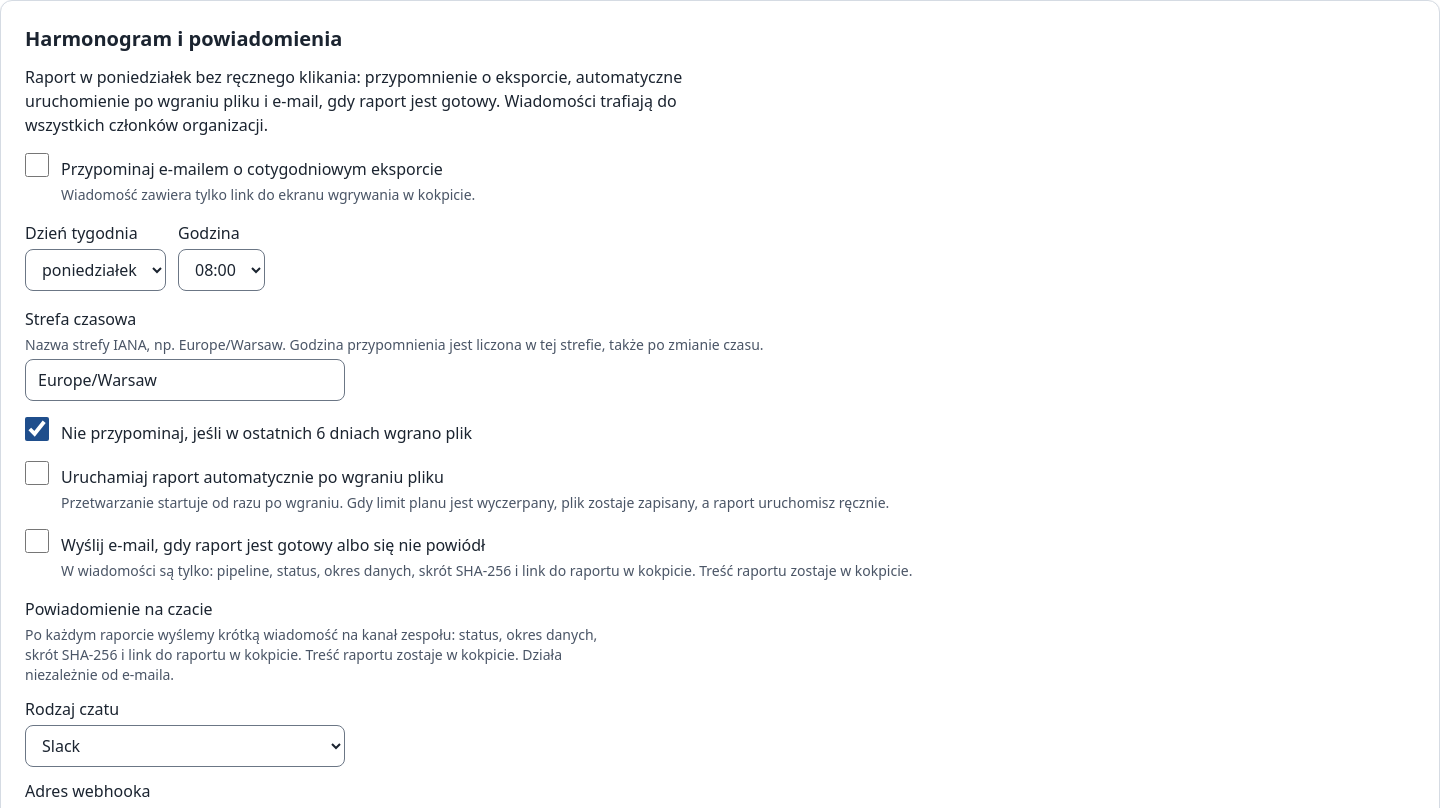
ScheduleSettingsCard › zapisuje pełny stan przez PUT, ogłasza sukces i pokazuje następne przypomnienie w strefie
Click the switch labelled "Przypominaj e-mailem o cotygodniowym eksporcie".
click(37, 165)  # box [25, 153, 49, 177]
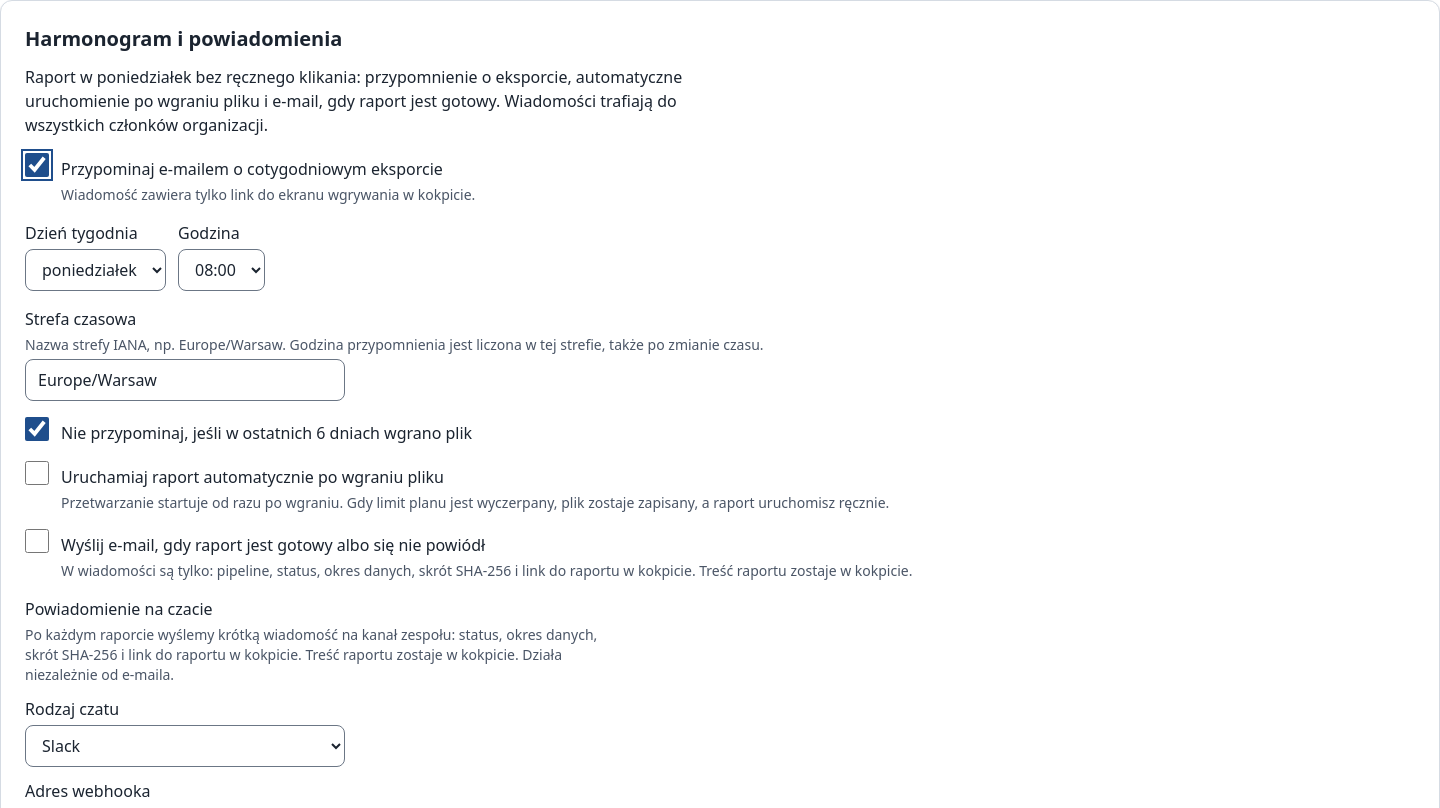
Select "wtorek" in the dropdown labelled "Dzień tygodnia" at (96, 270), box [25, 249, 166, 291]
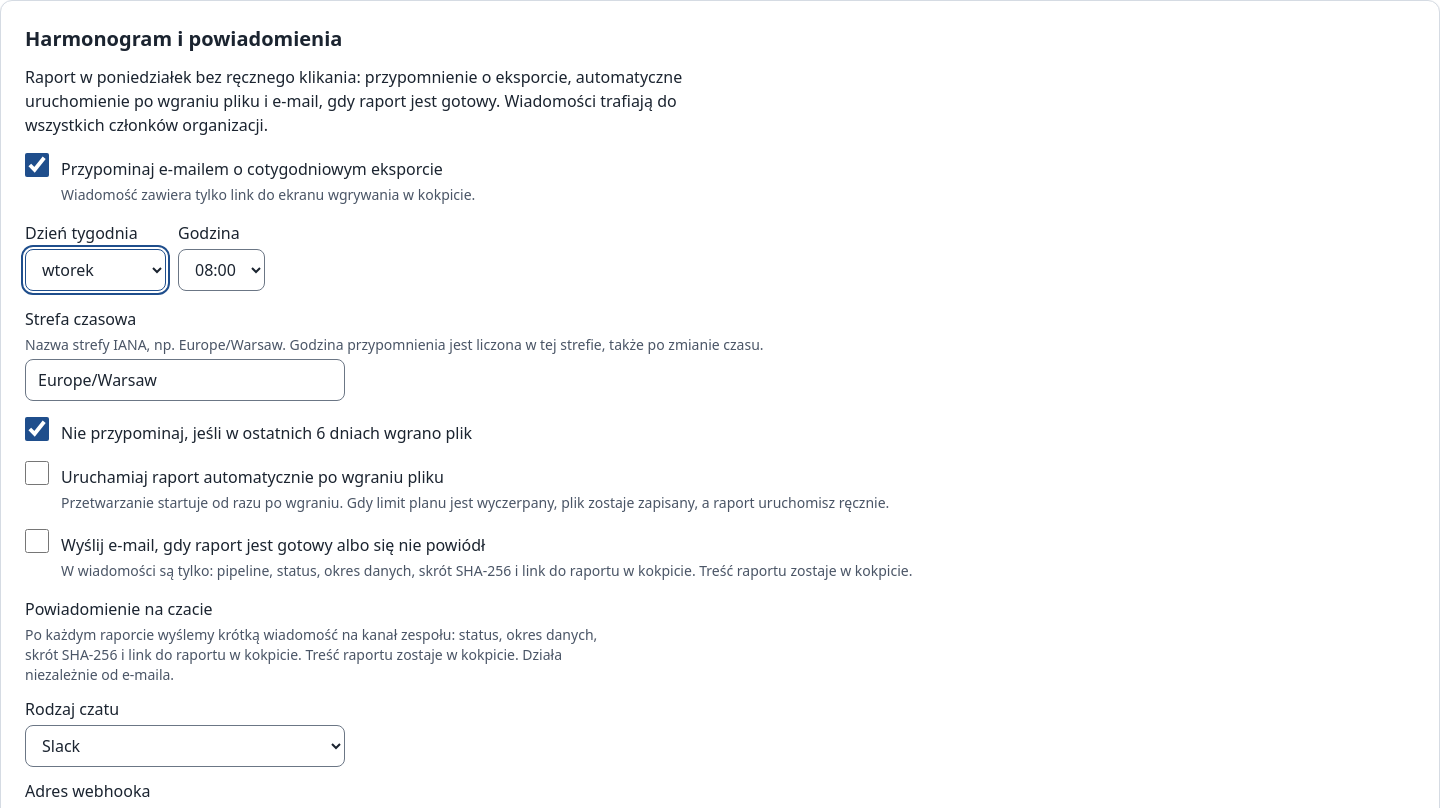
Select "09:00" in the dropdown labelled "Godzina" at (222, 270), box [178, 249, 265, 291]
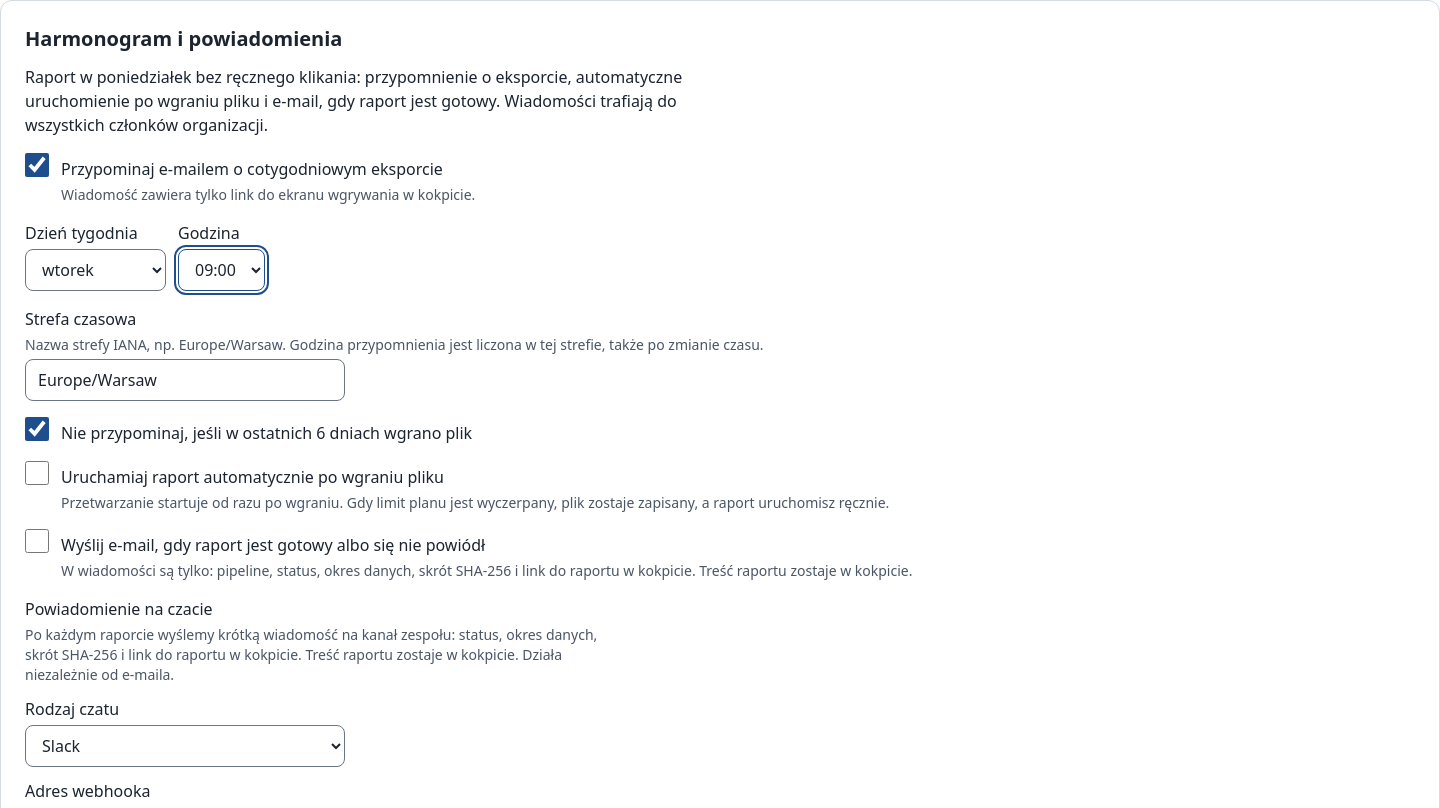
Click the switch labelled "Wyślij e-mail, gdy raport jest gotowy albo się nie powiódł".
click(37, 541)  # box [25, 529, 49, 553]
(page scrolled)
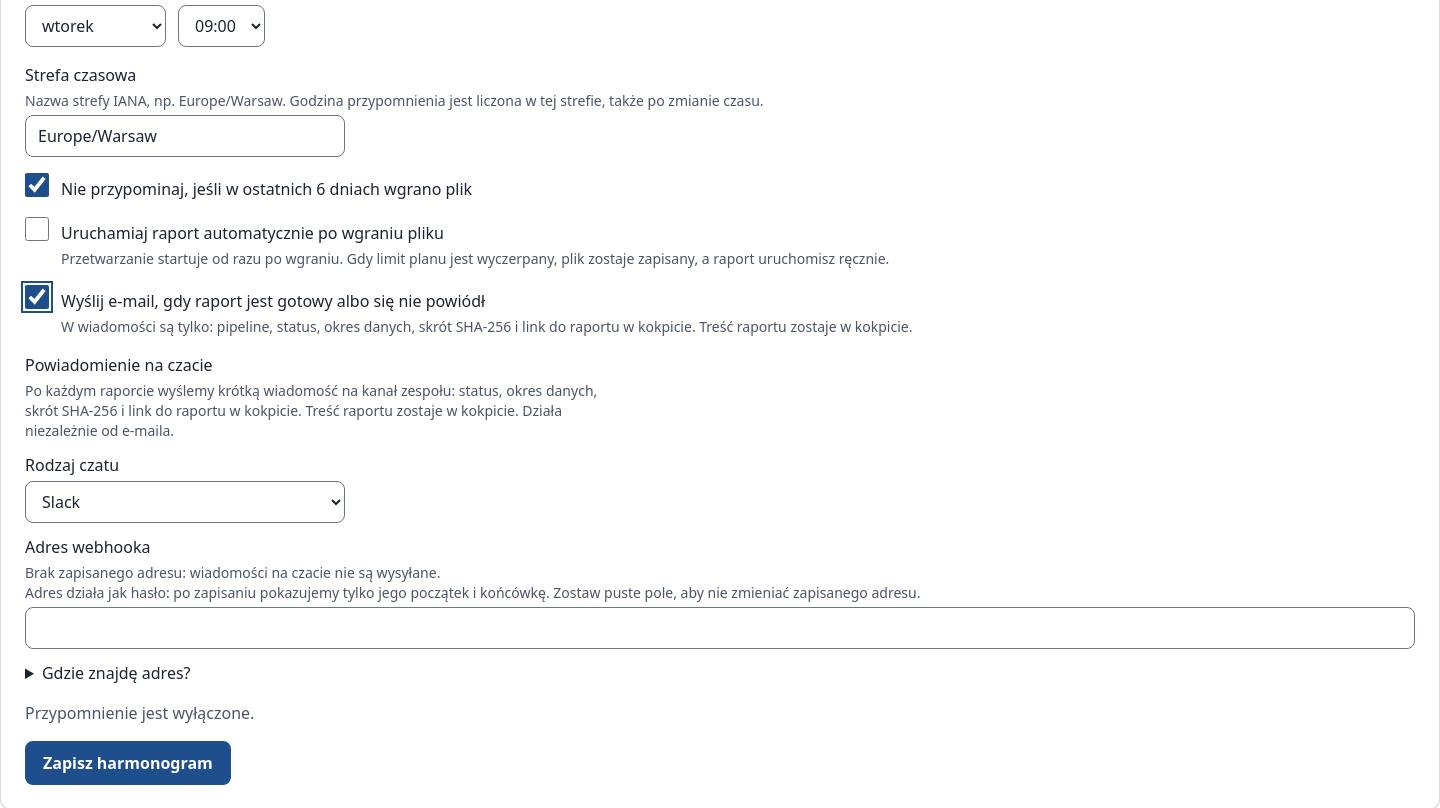
Click the button "Zapisz harmonogram".
click(128, 763)  # box [25, 741, 231, 785]
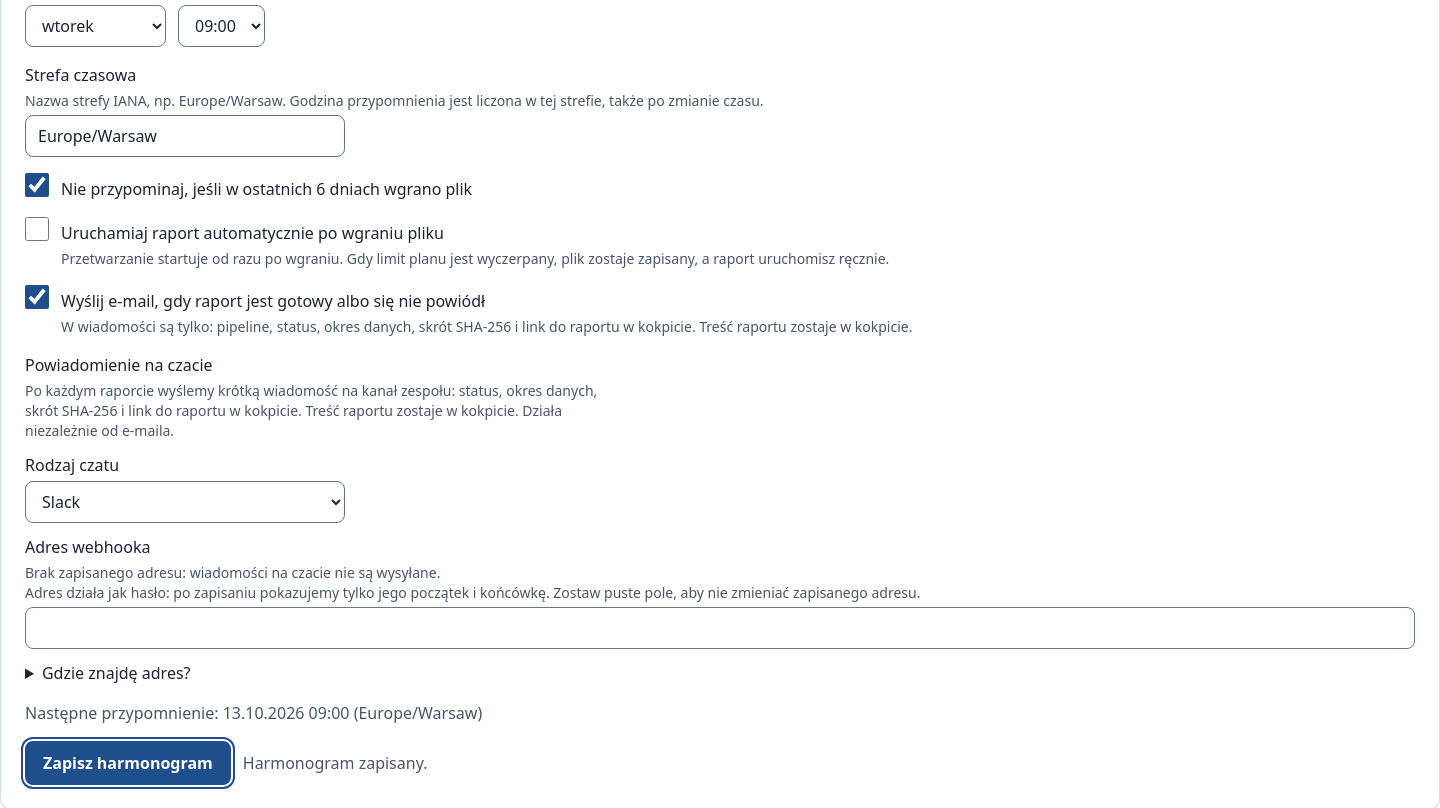
Check: the text "Harmonogram zapisany." is shown, box [243, 751, 428, 775]
Check: the text "Następne przypomnienie: 13.10.2026 09:00 (Europe/Warsaw)" is shown, box [25, 702, 482, 724]
